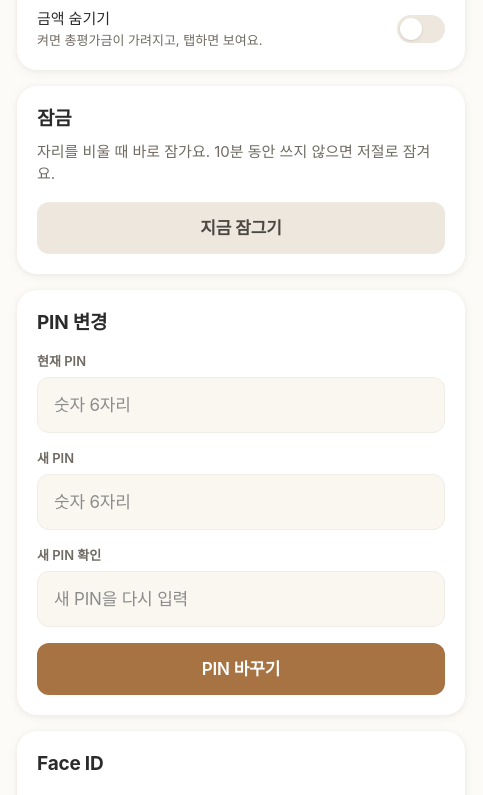
it: SettingsPage — 섹션 제목 렌더링 › Face ID 해제에 실패하면 PIN 변경 자체를 중단한다
(page scrolled)
In the password field labelled "현재 PIN": [241, 405] box [37,377,445,433], type "135790"
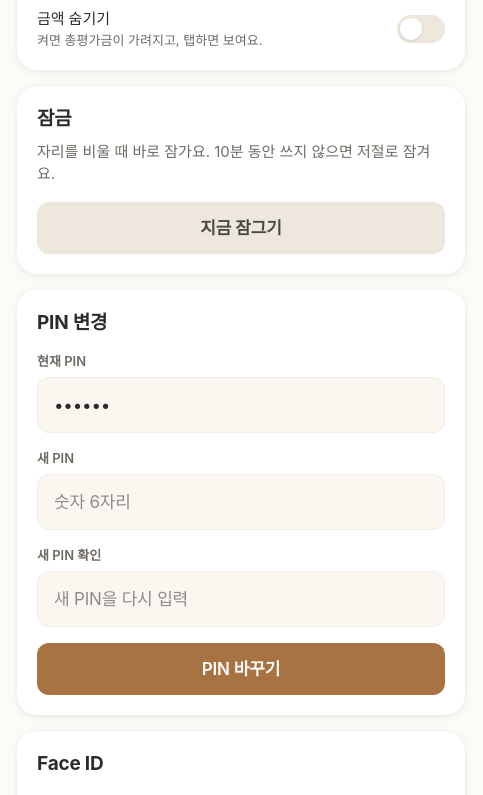
In the password field labelled "새 PIN": [241, 502] box [37,474,445,530], type "246810"
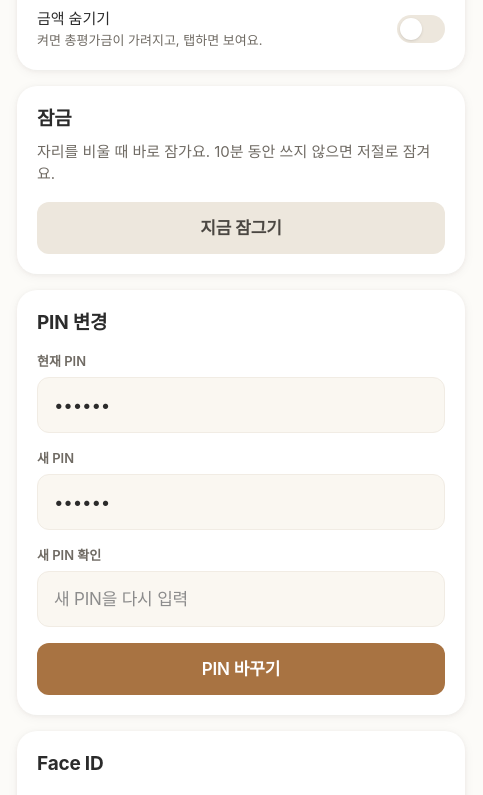
In the password field labelled "새 PIN 확인": [241, 599] box [37,571,445,627], type "246810"
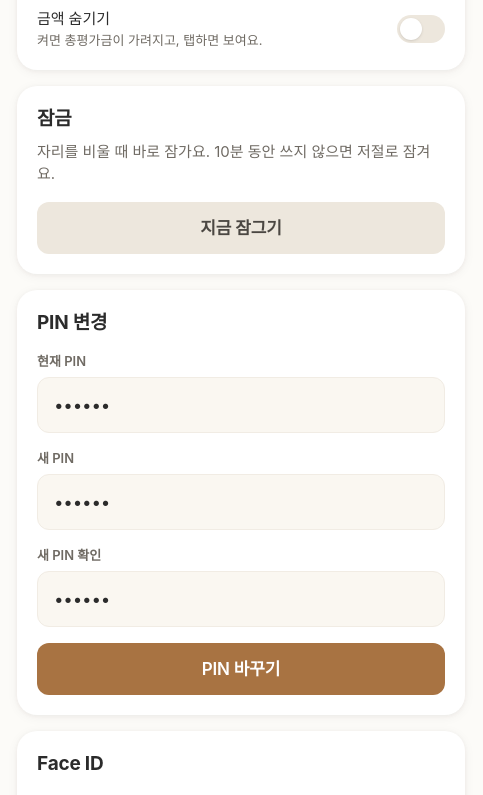
Click the button "PIN 바꾸기": [241, 669] box [37,643,445,695]
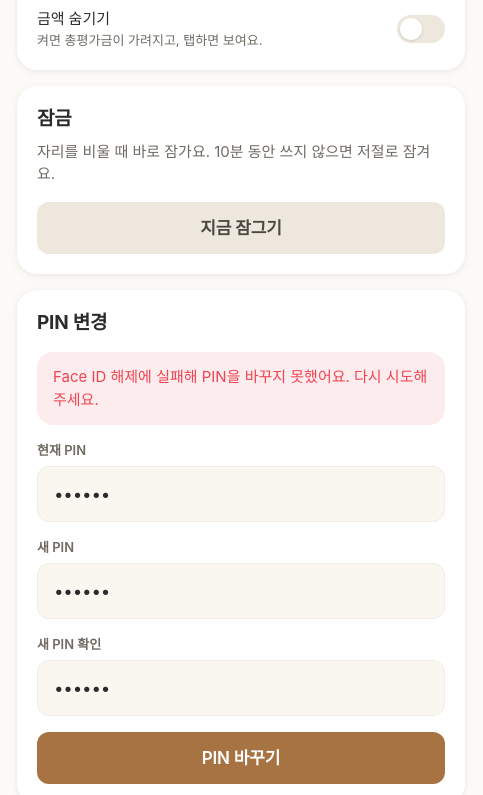
expect the text "Face ID 해제에 실패해 PIN을 바꾸지 못했어요. 다시 시도해 주세요." is shown: met, box [37,352,445,425]
